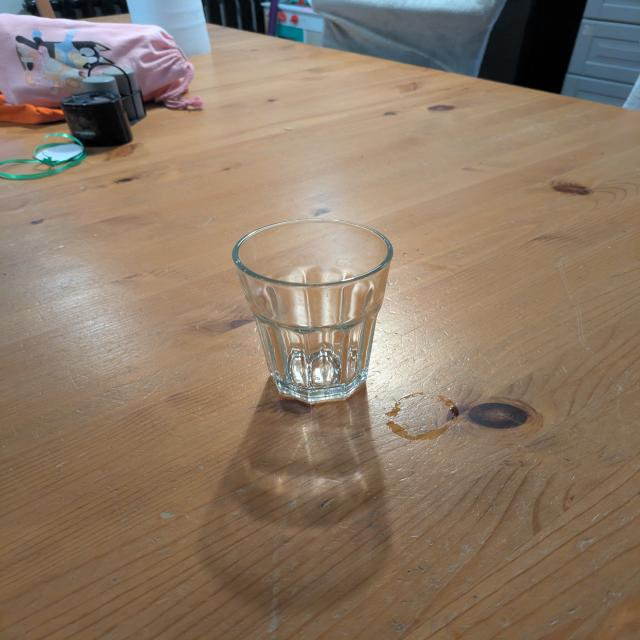ok g1: (230, 216, 396, 408)
